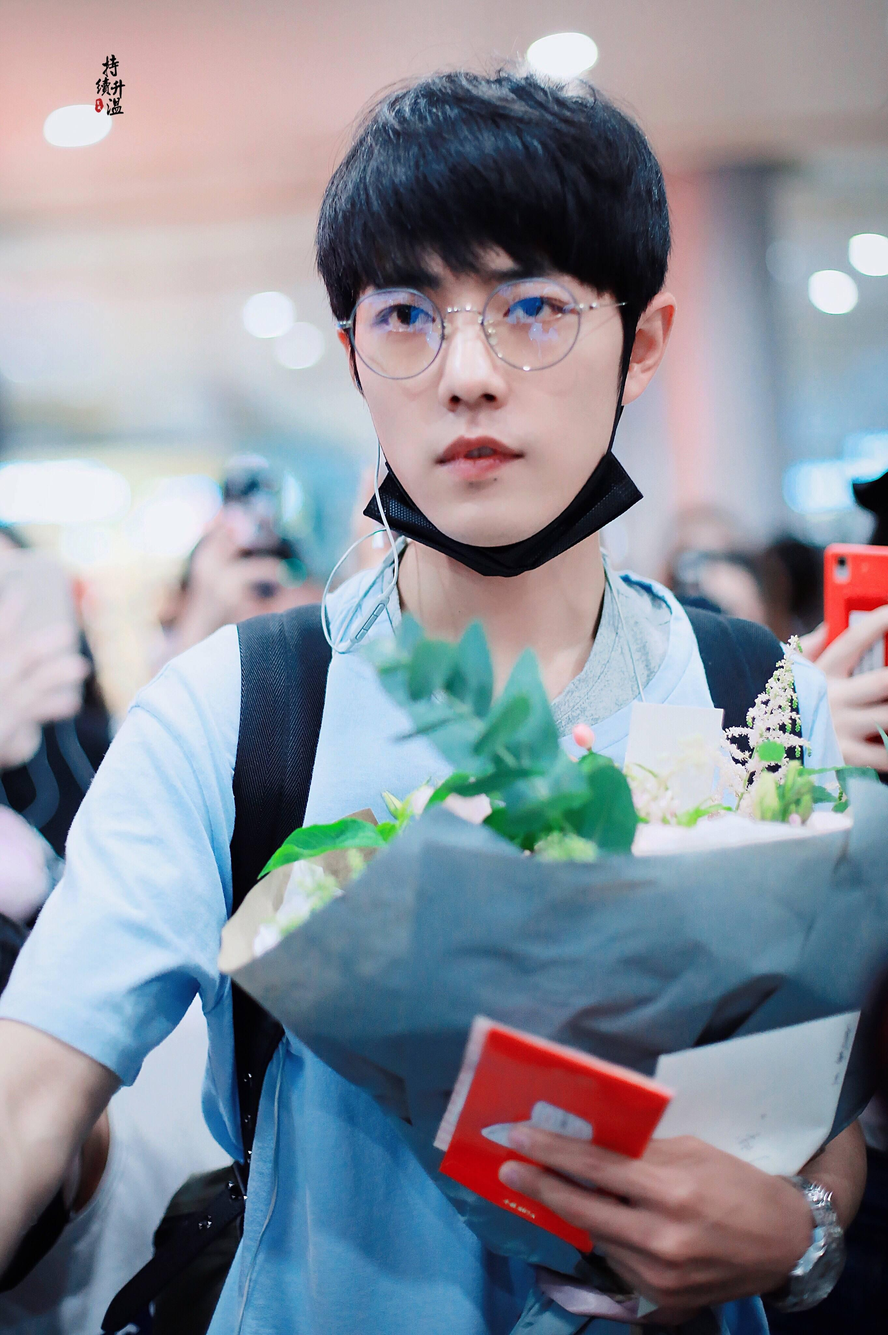WRONG: (347, 225, 623, 556)
